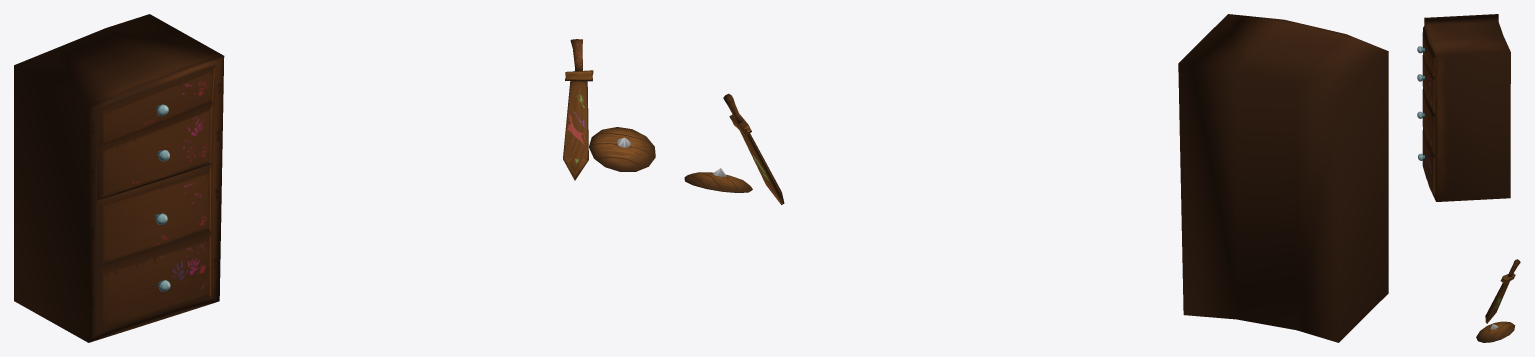
The picture shows the model from 3 angles, left to right: view 1: azimuth 30°, elevation 25°; view 2: azimuth 150°, elevation 25°; view 3: azimuth 270°, elevation 25°; orthographic projection. The views are drawn at different scales.
Parts seen in each view (by area): view 1: sword; view 2: sword; view 3: sword.
Boxes of the visible parts, <box> form: sword: <box>14,14,655,342</box>; sword: <box>684,14,1388,342</box>; sword: <box>1417,14,1520,342</box>.
Bounding box in the file's own units: 0.5607 × 0.2143 × 0.1308.
